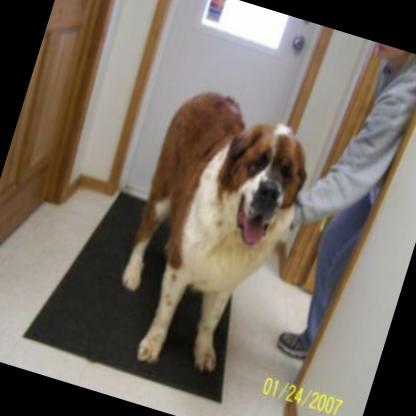Saint_Bernard: (95, 76, 324, 395)
